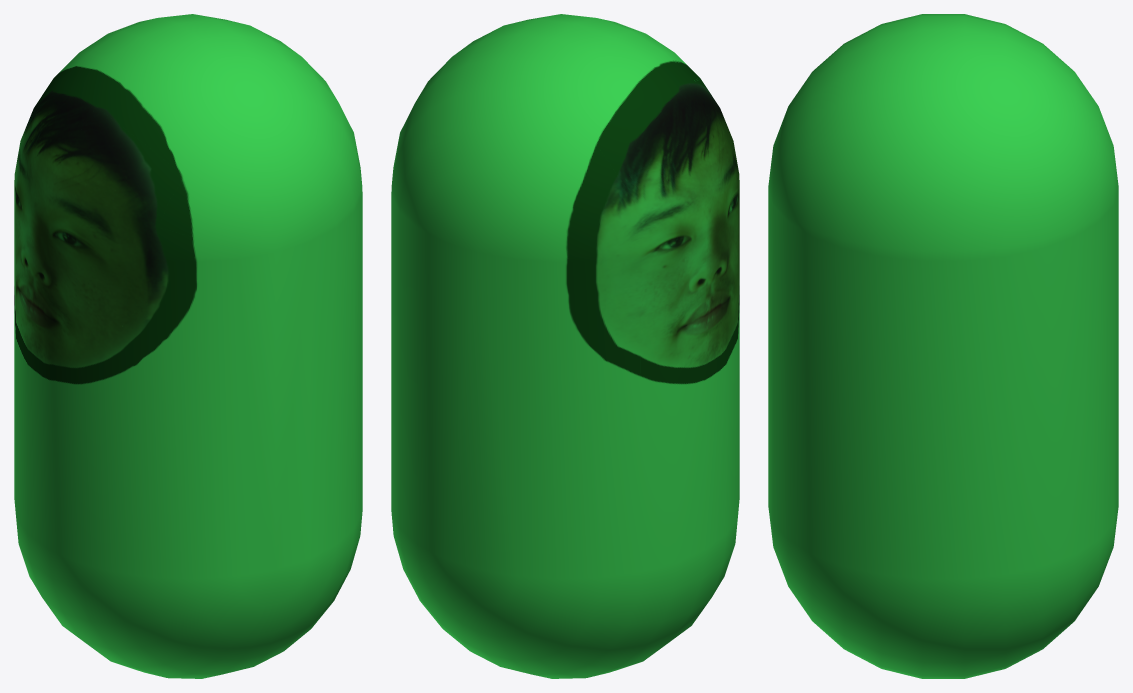
Rendered from Alien Robert Yang.fbx.
3 views of the same model, side by side, from view 1: azimuth 30°, elevation 25°; view 2: azimuth 150°, elevation 25°; view 3: azimuth 270°, elevation 25° (orthographic).
Visible parts, largest first — view 1: Model 11; view 2: Model 11; view 3: Model 11.
Part boxes in pixels (x1,y1,x2,y2): Model 11: (14, 14, 362, 678); Model 11: (391, 14, 739, 678); Model 11: (768, 14, 1118, 678).
Size of the model in its own units: 199 by 398 by 200.
Materials: 1 (1 with a texture image).
